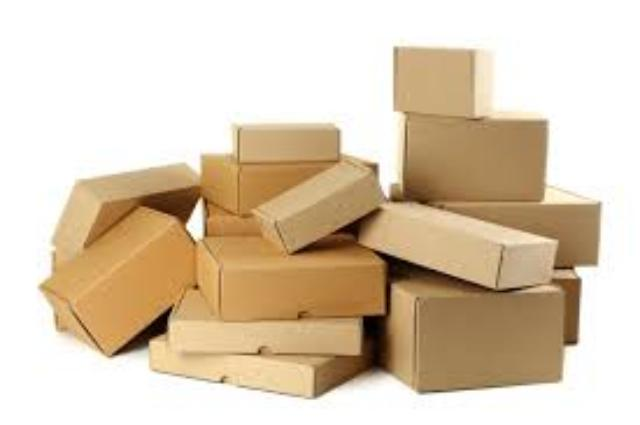cardboard paper: (42, 207, 193, 354), (384, 270, 563, 389), (358, 202, 556, 289), (200, 237, 384, 319), (54, 163, 195, 263), (149, 335, 365, 396), (435, 189, 598, 265), (168, 291, 361, 354), (405, 114, 545, 200), (251, 161, 379, 251), (200, 154, 335, 212), (393, 47, 489, 114), (235, 123, 337, 161)
